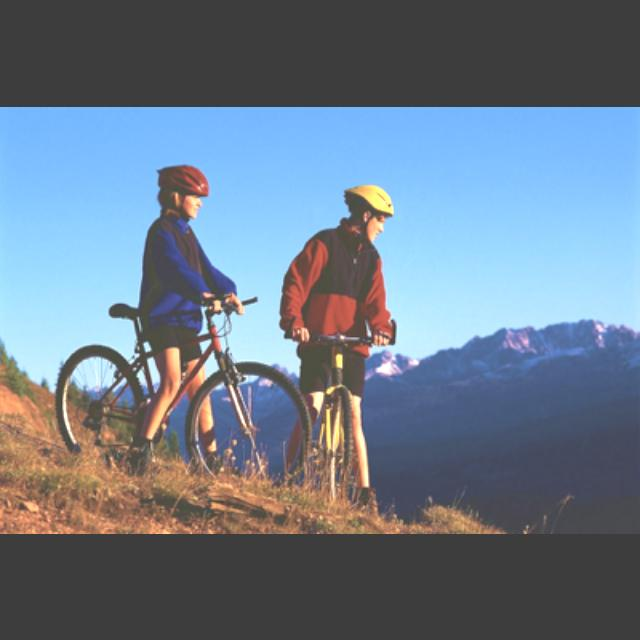With Helmet: (342, 176, 396, 242), (154, 158, 208, 220)
